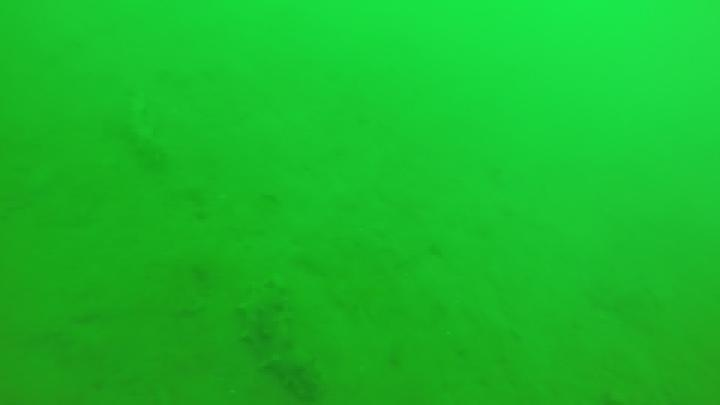holothurian: (235, 278, 325, 401), (119, 93, 171, 173)
